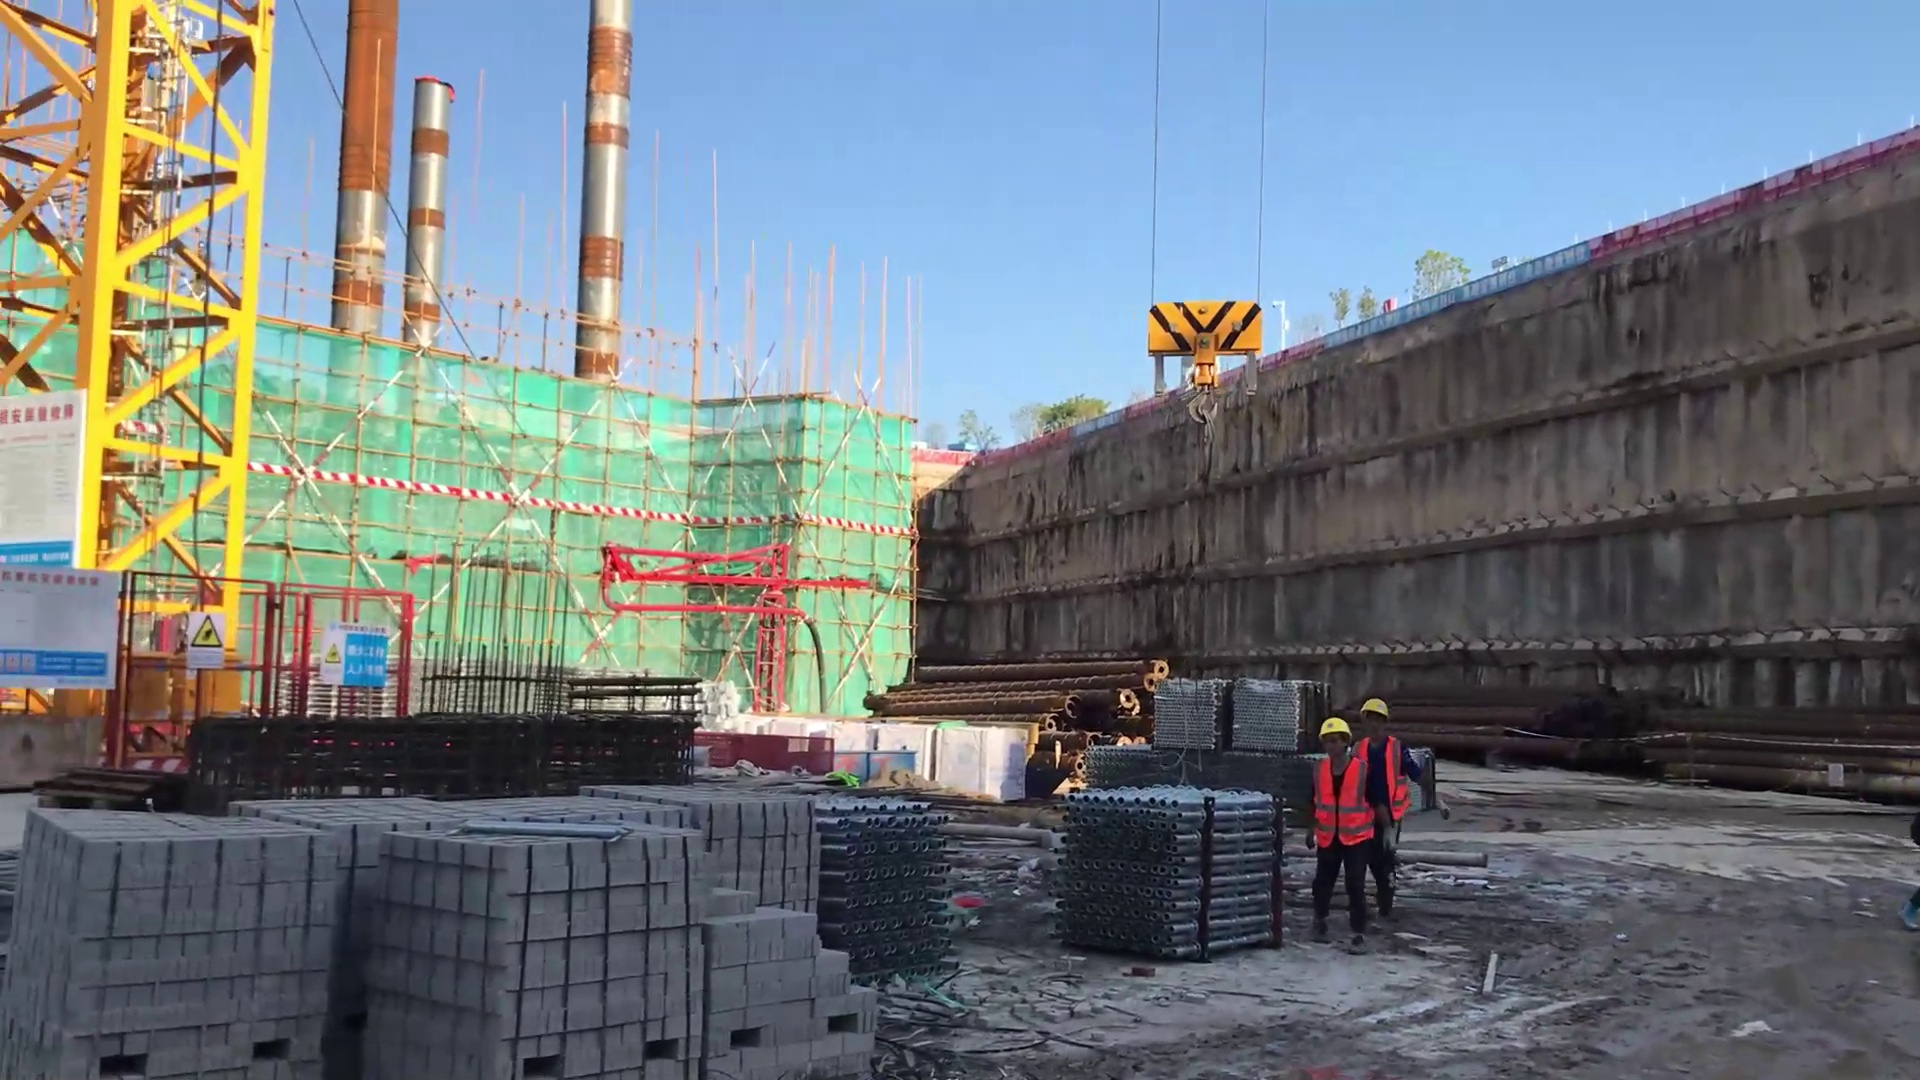brick: (27, 793, 848, 1069)
helmet: (1350, 689, 1417, 743), (1316, 711, 1363, 757)
hook: (1142, 297, 1265, 419)
person: (1304, 712, 1377, 935), (1348, 689, 1406, 915)
scaffold: (1036, 769, 1290, 968), (804, 793, 981, 987), (1150, 670, 1305, 766)
vest: (1313, 746, 1366, 849), (1356, 730, 1411, 827)
